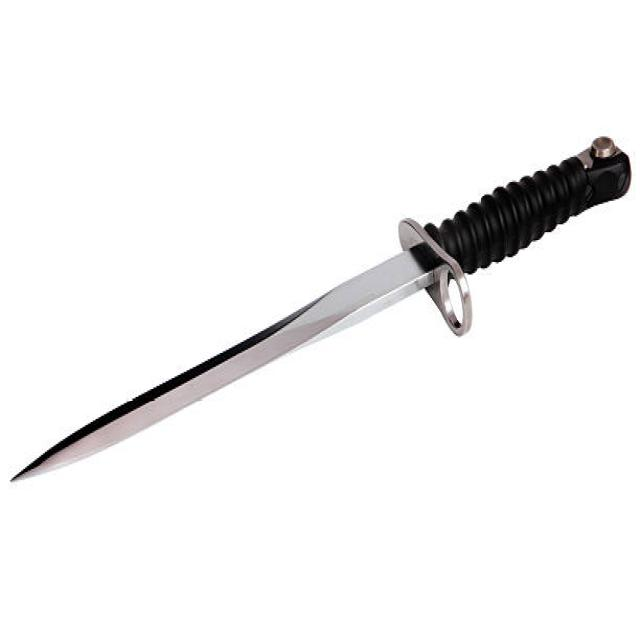knife: (1, 134, 638, 494)
